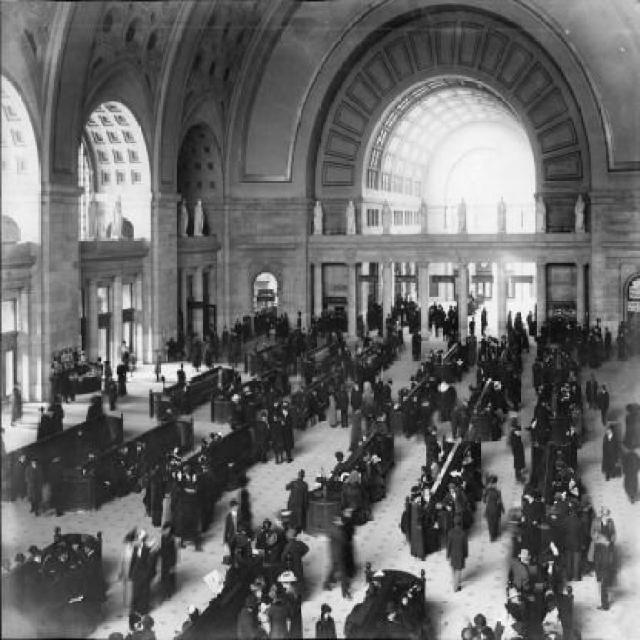Person: (145, 440, 217, 554), (399, 422, 446, 564), (544, 453, 591, 576), (530, 308, 568, 440), (236, 570, 302, 639), (382, 572, 432, 637), (590, 505, 618, 610), (321, 510, 352, 599), (278, 528, 312, 604), (558, 370, 588, 455), (131, 532, 155, 616), (345, 581, 377, 639), (254, 358, 291, 407), (448, 452, 478, 511), (385, 292, 421, 341), (480, 475, 506, 542), (475, 332, 508, 383), (283, 310, 315, 362), (284, 468, 308, 537), (333, 506, 355, 580), (542, 599, 581, 639), (157, 516, 175, 602), (410, 347, 445, 390), (599, 423, 623, 482), (574, 321, 604, 368), (345, 469, 372, 520), (351, 567, 383, 608), (427, 302, 458, 343), (223, 503, 243, 563), (226, 522, 252, 568), (444, 484, 471, 528), (118, 530, 132, 610), (510, 544, 535, 588), (108, 444, 128, 498), (26, 453, 43, 516), (362, 450, 384, 498), (614, 319, 638, 363), (505, 310, 529, 352), (253, 411, 272, 464), (624, 438, 639, 504), (252, 302, 277, 340), (520, 488, 538, 540), (317, 310, 349, 339), (509, 425, 525, 483), (258, 518, 282, 556), (282, 400, 295, 465), (460, 612, 492, 638), (47, 448, 59, 515), (504, 402, 518, 458), (314, 601, 334, 637), (130, 433, 144, 484), (504, 600, 524, 634), (226, 390, 243, 427), (14, 448, 26, 499), (86, 193, 99, 239), (111, 192, 124, 238), (10, 378, 22, 427), (623, 399, 634, 452), (272, 409, 282, 466), (57, 362, 69, 407), (337, 382, 349, 427), (598, 384, 610, 428), (368, 454, 384, 486), (178, 196, 190, 238), (191, 198, 204, 236), (367, 301, 385, 328), (507, 582, 525, 608), (326, 449, 343, 476), (117, 360, 129, 398), (343, 342, 354, 383), (310, 198, 322, 235), (360, 374, 371, 414), (586, 373, 597, 412), (107, 374, 118, 412), (328, 385, 338, 426), (344, 199, 356, 233), (381, 198, 392, 235), (417, 198, 428, 235), (165, 335, 181, 360), (534, 192, 544, 232), (574, 192, 584, 232), (44, 401, 56, 434), (104, 359, 116, 392), (370, 412, 388, 434), (496, 197, 506, 235), (296, 384, 304, 431), (276, 312, 290, 338), (88, 355, 104, 377), (203, 332, 212, 371), (72, 349, 86, 374), (310, 465, 324, 490), (193, 334, 202, 372), (182, 331, 193, 362), (220, 323, 231, 354), (512, 370, 520, 412), (36, 406, 46, 439), (372, 372, 380, 412), (380, 375, 389, 410), (602, 327, 612, 358), (390, 328, 399, 361), (508, 622, 526, 638), (633, 402, 639, 450), (56, 394, 64, 429), (350, 379, 358, 413), (452, 400, 458, 442), (459, 198, 466, 233), (233, 339, 241, 366), (318, 374, 325, 404), (357, 314, 365, 340), (362, 328, 372, 348), (177, 362, 186, 384), (154, 350, 160, 382), (335, 348, 343, 372), (213, 329, 219, 360), (411, 330, 417, 361), (308, 388, 318, 406), (214, 379, 223, 398), (401, 322, 407, 350), (87, 397, 93, 421), (478, 309, 484, 333), (234, 317, 240, 340), (470, 313, 476, 336), (226, 338, 232, 360), (1, 424, 5, 456), (483, 306, 488, 331), (418, 330, 422, 361), (242, 322, 248, 340), (228, 326, 238, 336), (362, 428, 369, 442), (468, 288, 474, 300), (526, 311, 532, 323), (462, 397, 468, 408), (349, 444, 354, 454), (189, 322, 193, 332)
